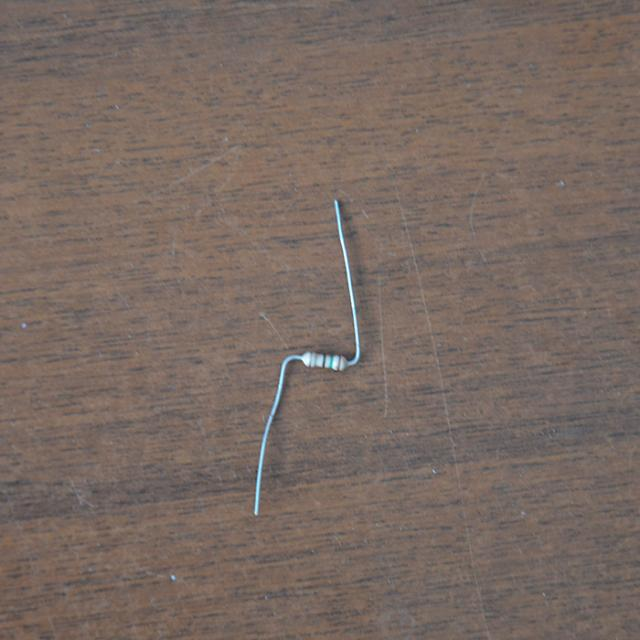black: (322, 354, 327, 367)
brown: (337, 356, 342, 369)
gold: (308, 351, 313, 367)
green: (329, 356, 334, 367)
resistor: (297, 345, 350, 380)
